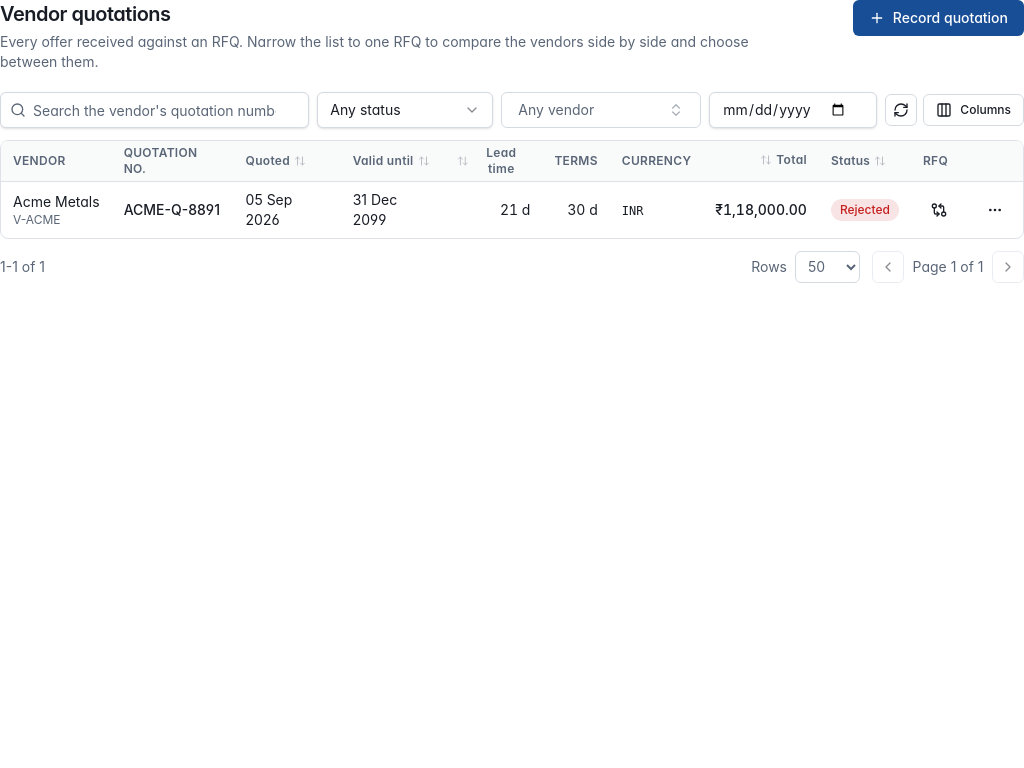
Test: the state machine decides which commands exist › offers a revision but no decision inside a rejected offer
Click the button "ACME-Q-8891": (172,210) [124,200,220,220]
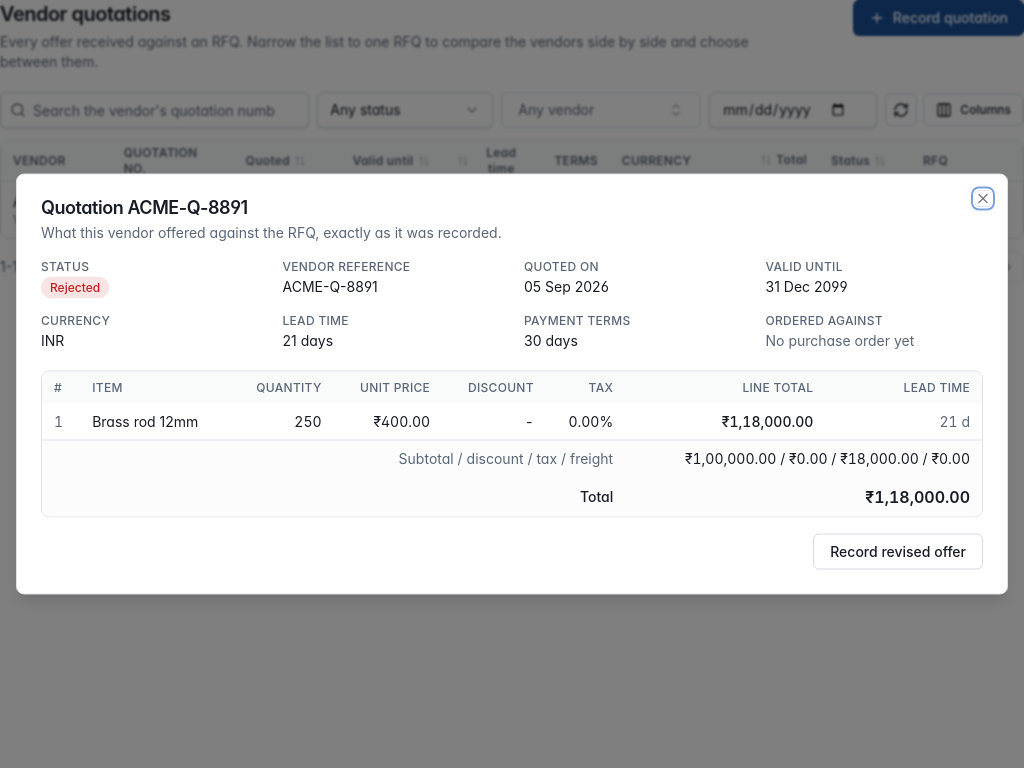
Now the dialog is shown, box [16,174,1008,594]
Now the button "Record revised offer" is shown, box [813,534,983,570]
